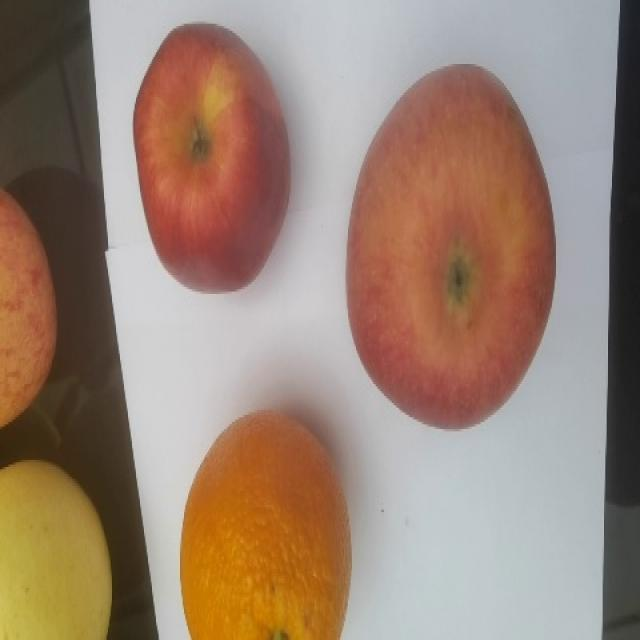Apple: (346, 65, 556, 428), (130, 22, 295, 300), (0, 187, 60, 434)
Orange: (177, 406, 354, 640)
